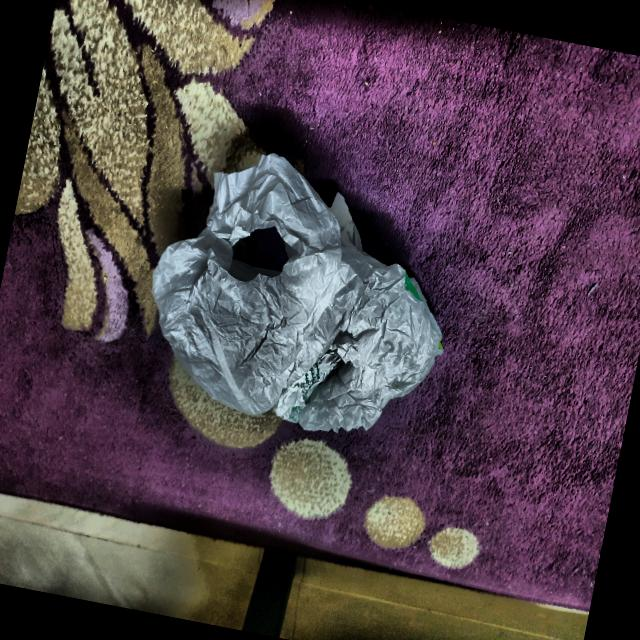plastic bag: (121, 119, 491, 461)
